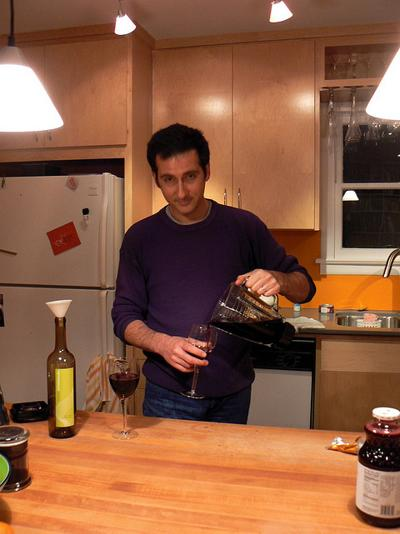person: (112, 124, 318, 427)
